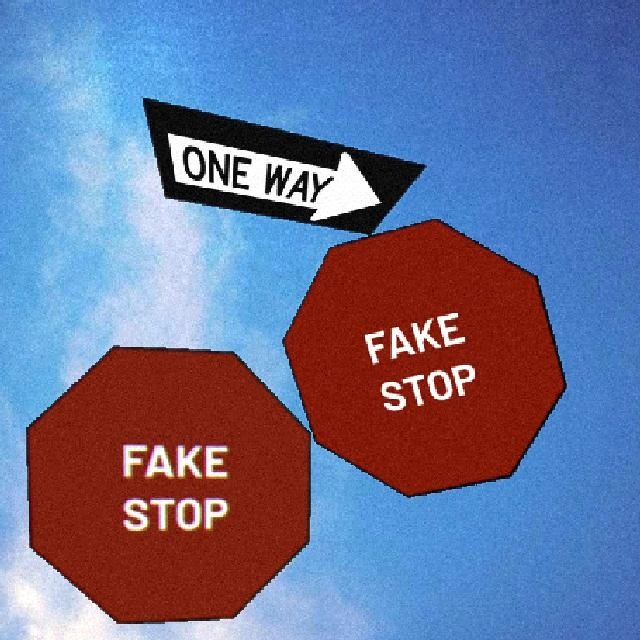FAKE_STOP: (280, 216, 566, 497), (24, 344, 310, 623)
ONE_WAY_ right: (140, 95, 426, 234)
